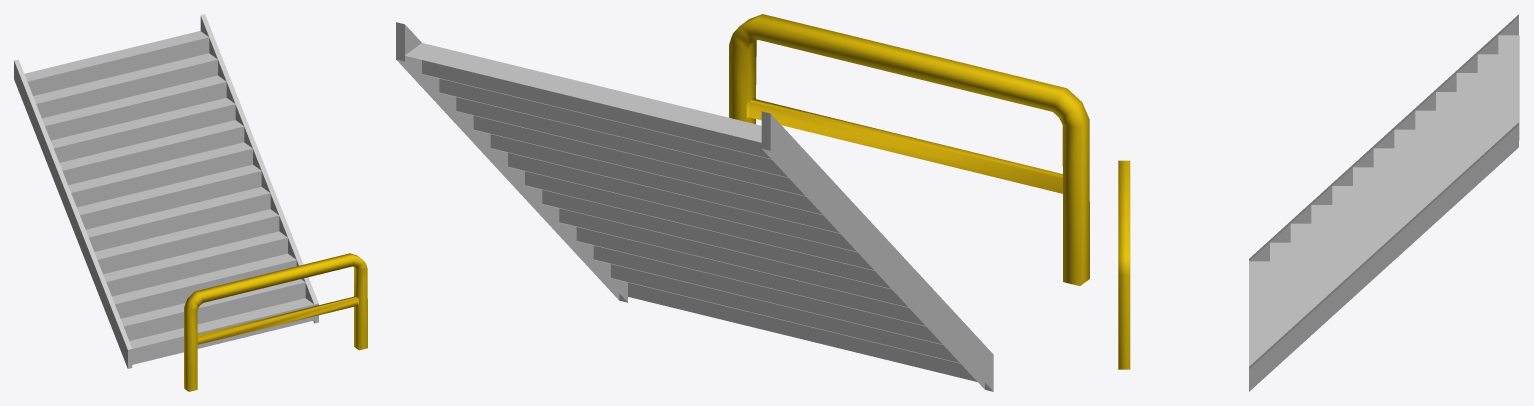
File: WorldObjeccts.Facility.fbx
3 views of the same model, side by side, from view 1: azimuth 30°, elevation 25°; view 2: azimuth 150°, elevation 25°; view 3: azimuth 270°, elevation 25° (orthographic). The views are drawn at different scales.
Visible parts, largest first — view 1: Stairs, Railing; view 2: Stairs, Railing; view 3: Stairs, Railing.
Part boxes in pixels (x1,y1,x2,y2): Stairs: [14, 14, 318, 368]; Railing: [184, 253, 367, 391]; Stairs: [396, 22, 993, 391]; Railing: [729, 14, 1089, 285]; Stairs: [1249, 14, 1519, 391]; Railing: [1118, 160, 1130, 369].
Size of the model in its own units: 210 by 237 by 322.
